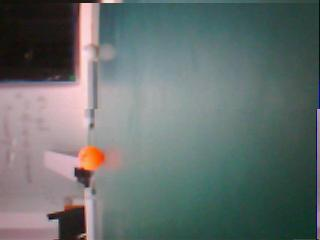oball: (78, 145, 103, 170)
